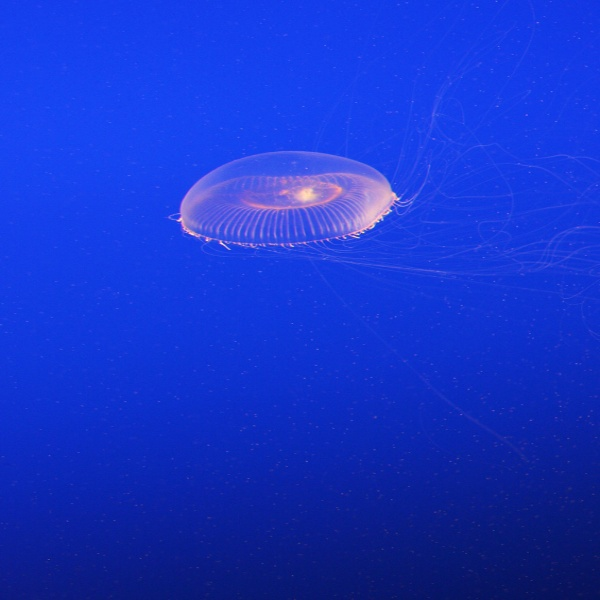Jellyfish: (156, 0, 599, 468)
